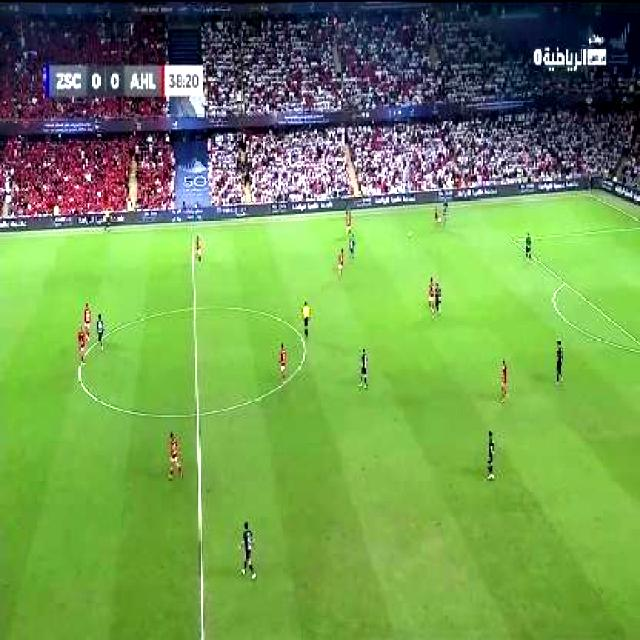bigarea_top_inner: (505, 230, 517, 244)
corner: (580, 189, 602, 200)
halfcircle_bottom: (186, 398, 206, 424)
halfcircle_top: (185, 297, 203, 318)
midline_top_intersection: (183, 220, 197, 235)
top_arc_area_intersection: (557, 274, 569, 288)
